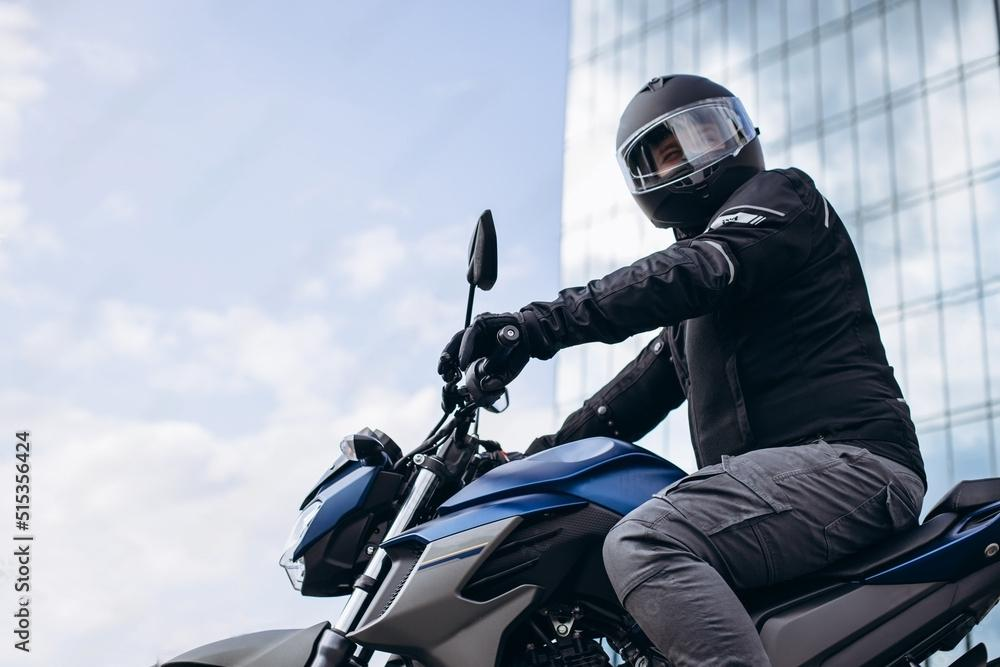helmet: (613, 72, 767, 230)
